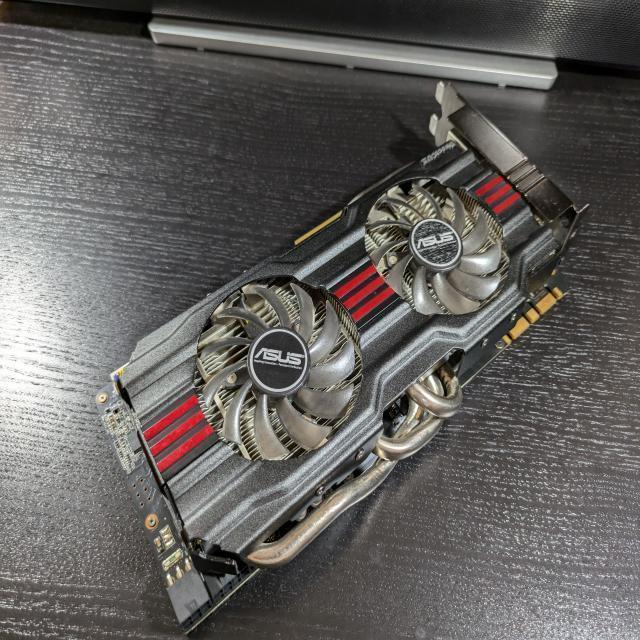GPU: (92, 76, 589, 640)
